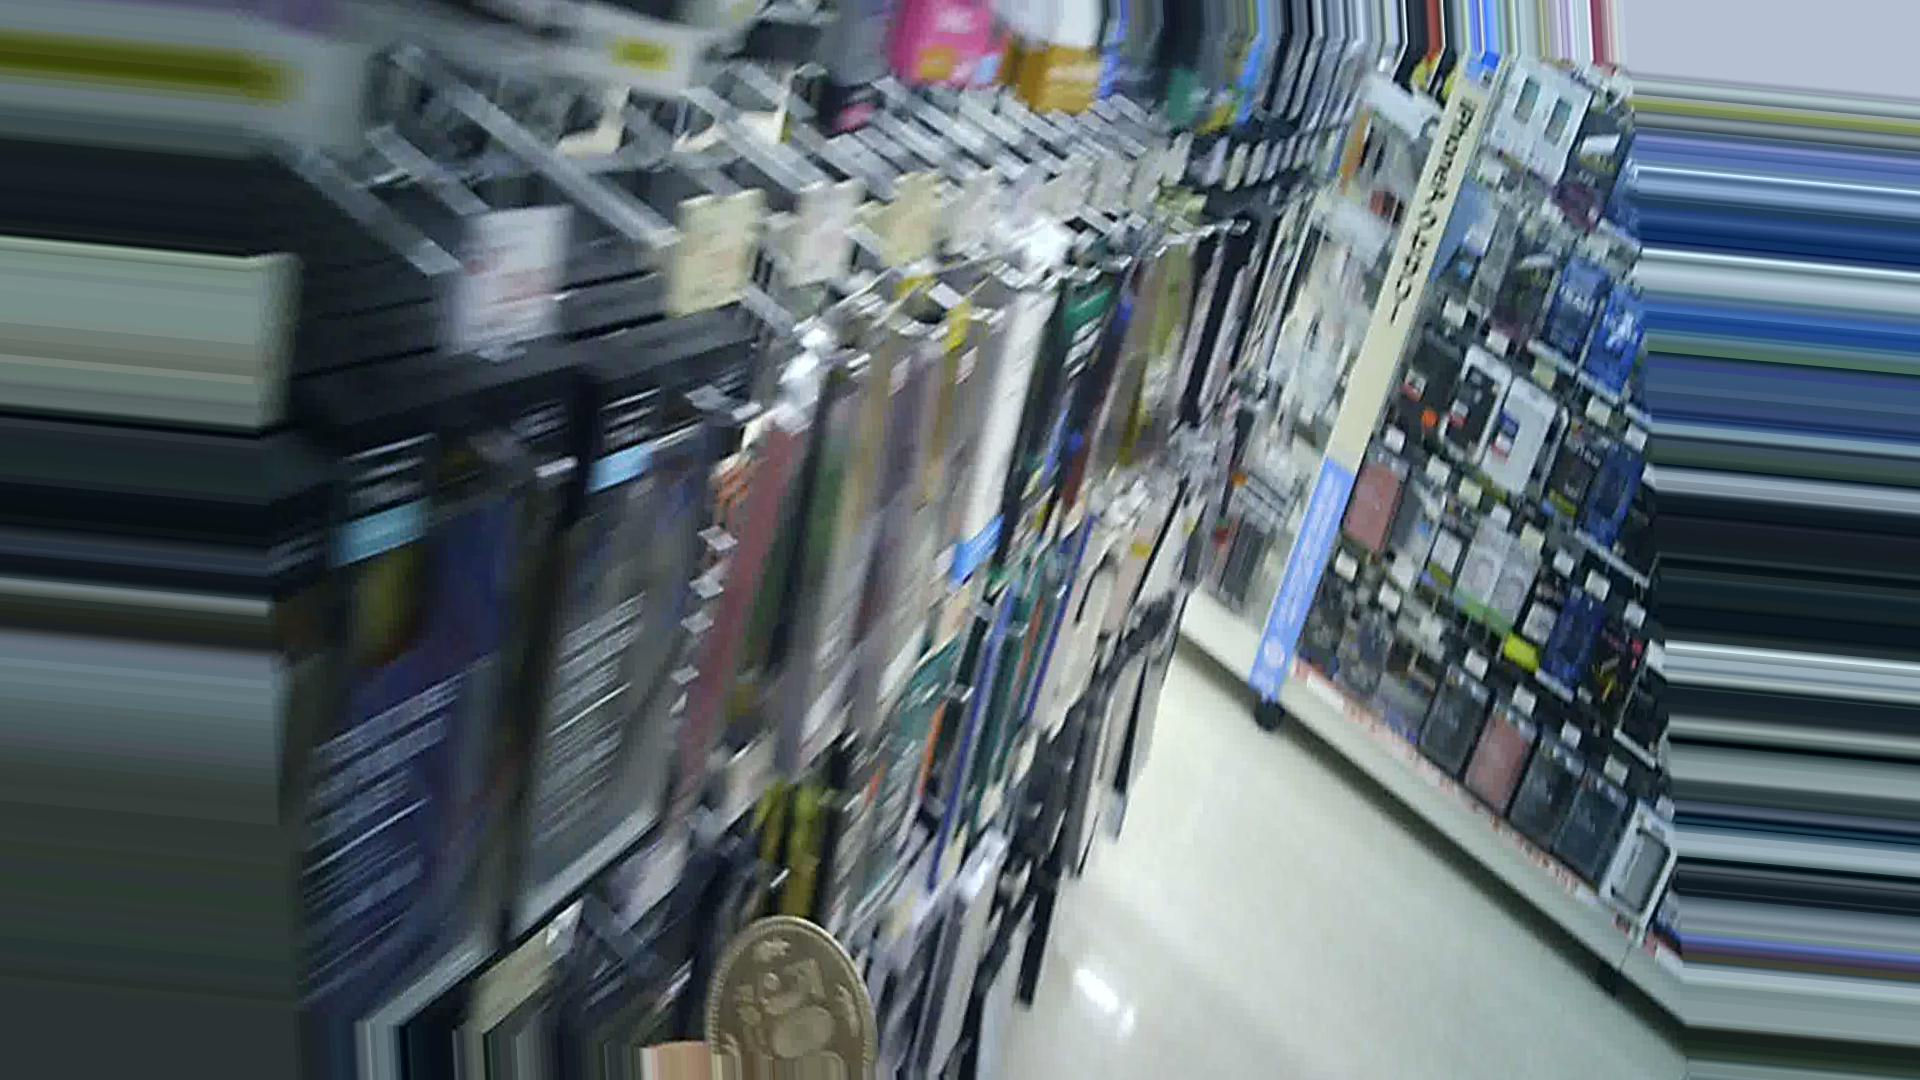500 Yen: (688, 914, 894, 1075)
